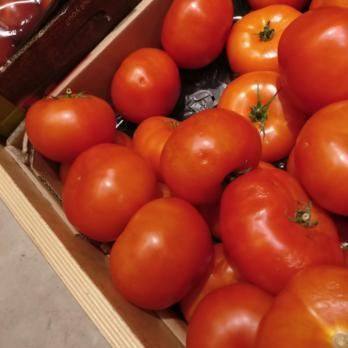Tomato: (114, 0, 348, 348), (62, 138, 232, 304), (22, 93, 115, 160)
